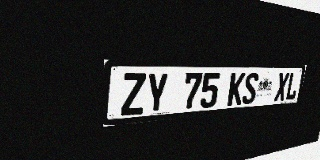5: (200, 73, 220, 108)
7: (181, 73, 203, 110)
K: (227, 73, 246, 106)
L: (285, 72, 300, 100)
S: (241, 73, 259, 105)
X: (274, 73, 290, 101)
Y: (145, 73, 169, 114)
Z: (121, 73, 146, 116)
